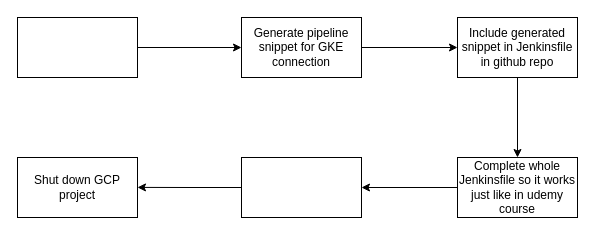
Some shapes in this 595 by 235 pixel diagram are drawn without their labels. Each missing label, with the box of its shape:
Create GKE server: (16, 16, 138, 78)
If everything works, poke with GKE and Jenkins: (240, 156, 362, 218)
